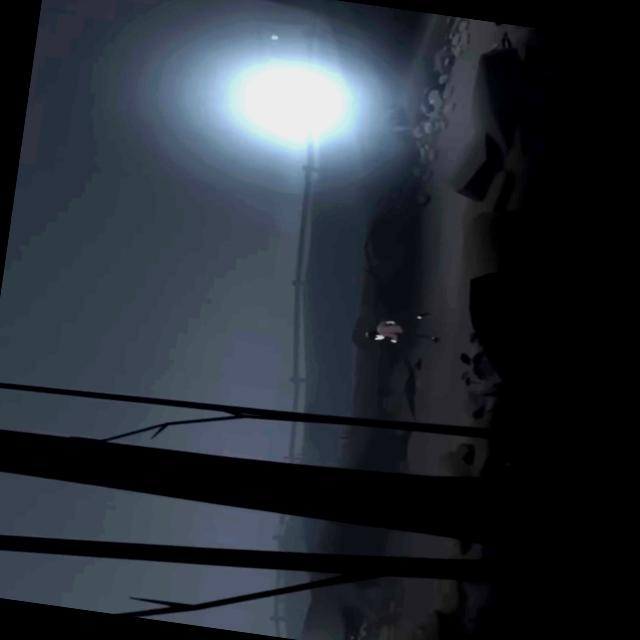boy: (364, 308, 443, 348)
